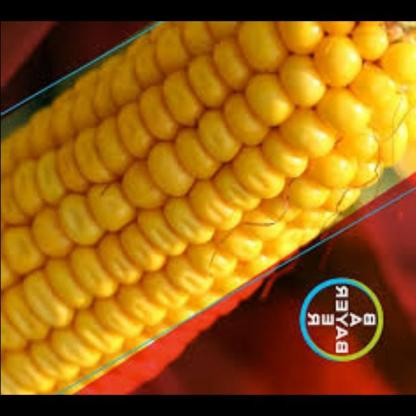corn: (0, 22, 416, 395)
